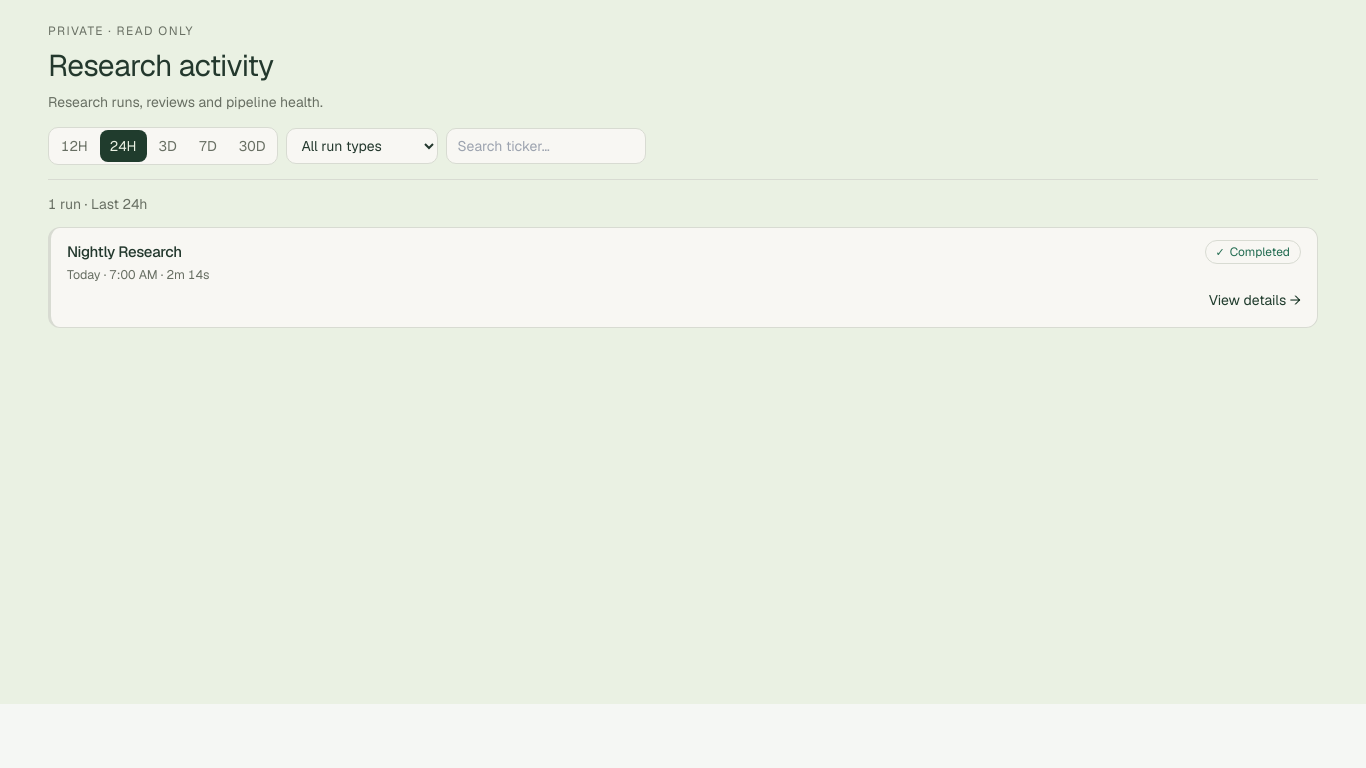
Test: research activity page › stays usable for a legacy run and notes the missing metrics quietly in Diagnostics
The width and height of the screenshot is (1366, 768).
Click the button "View details →".
click(1251, 301)  # box [1201,287,1301,315]
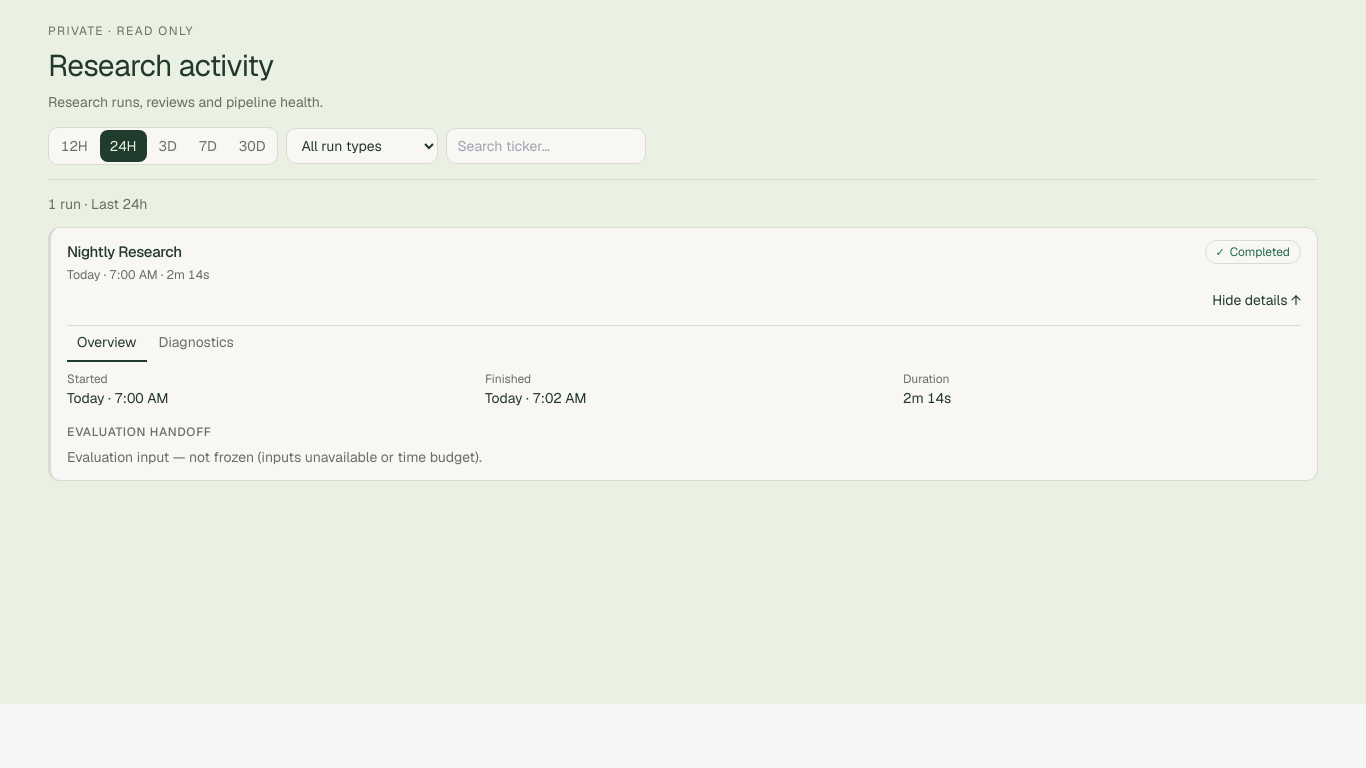
Expected: the text "Completed" is shown, [1230,244,1290,260]
Now the text "2m 14s" below "Duration" is shown, box [903,389,951,407]
Click the tab "Diagnostics".
click(196, 344)  # box [149,326,244,362]
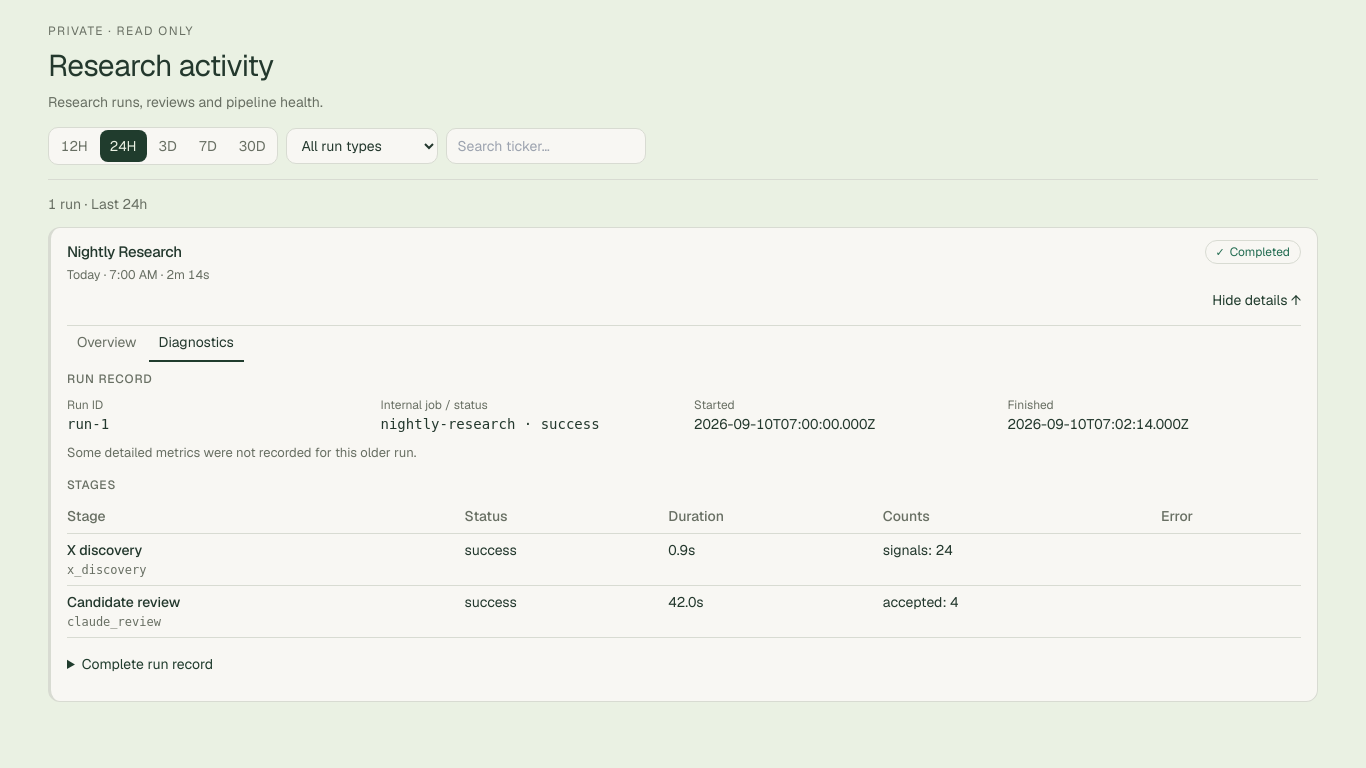
Now the text "Some detailed metrics were not recorded for this older run." is shown, box [67,444,416,461]
